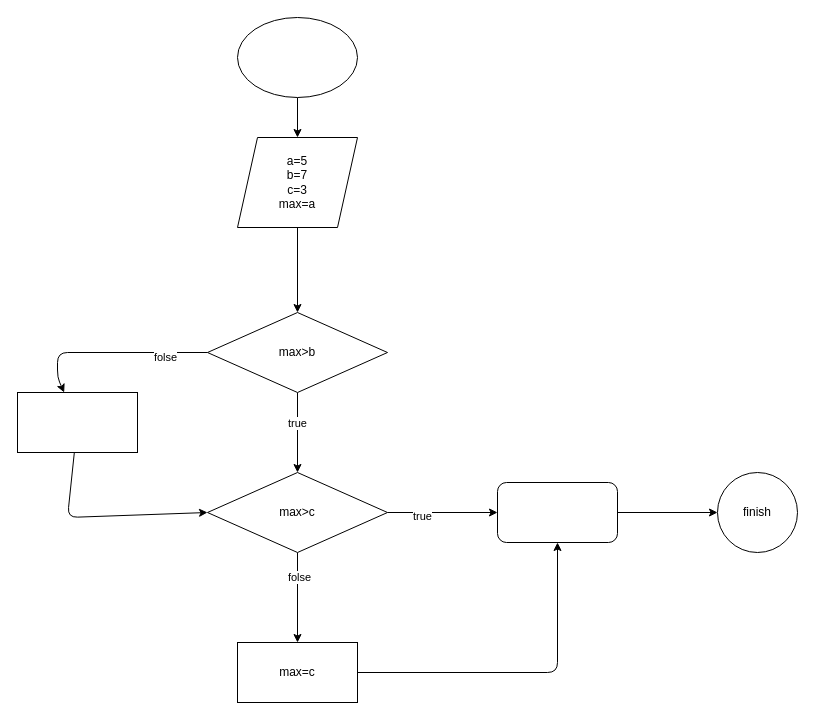
This 815x720 diagram has some shape labels left out. Here are the shapes that lost their labels. From the top down, the box of each, then its label:
(236, 16, 358, 98): start
(16, 392, 138, 452): max=b
(496, 482, 618, 542): print max
